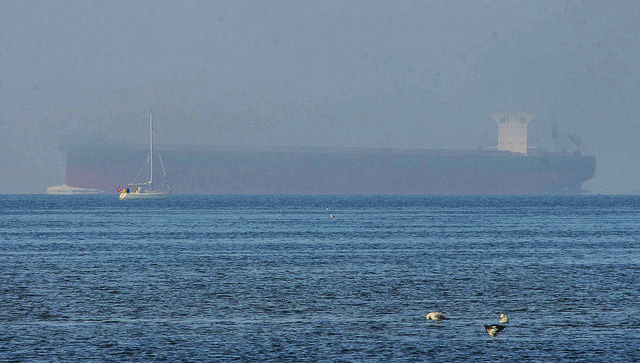boat: (119, 111, 175, 200)
bulk carrier: (64, 96, 601, 199)
